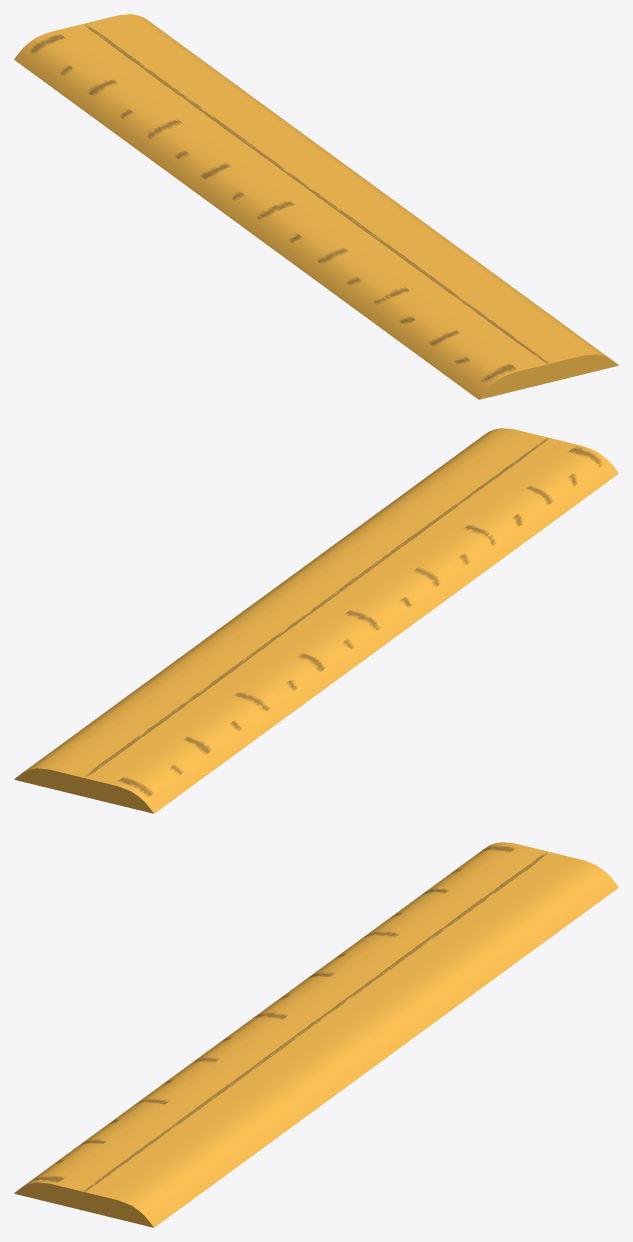
The model's file is TexturedRuler.fbx.
The picture shows the model from 3 angles, top to bottom: view 1: azimuth 30°, elevation 25°; view 2: azimuth 150°, elevation 25°; view 3: azimuth 330°, elevation 25°; orthographic projection.
Visible parts, largest first — view 1: pCube1; view 2: pCube1; view 3: pCube1.
Boxes of the visible parts, box(x1,y1,x2,y2) form: pCube1: box(14, 14, 618, 399); pCube1: box(14, 428, 618, 813); pCube1: box(14, 842, 618, 1227).
Size of the model in its own units: 2.68 by 0.3439 by 15.42.
Materials: 1 (1 with a texture image).
